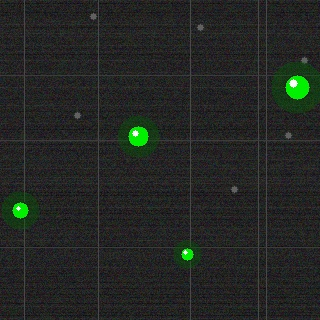green_normal: (283, 73, 311, 101), (126, 124, 150, 148), (10, 200, 30, 220), (179, 246, 195, 262)
